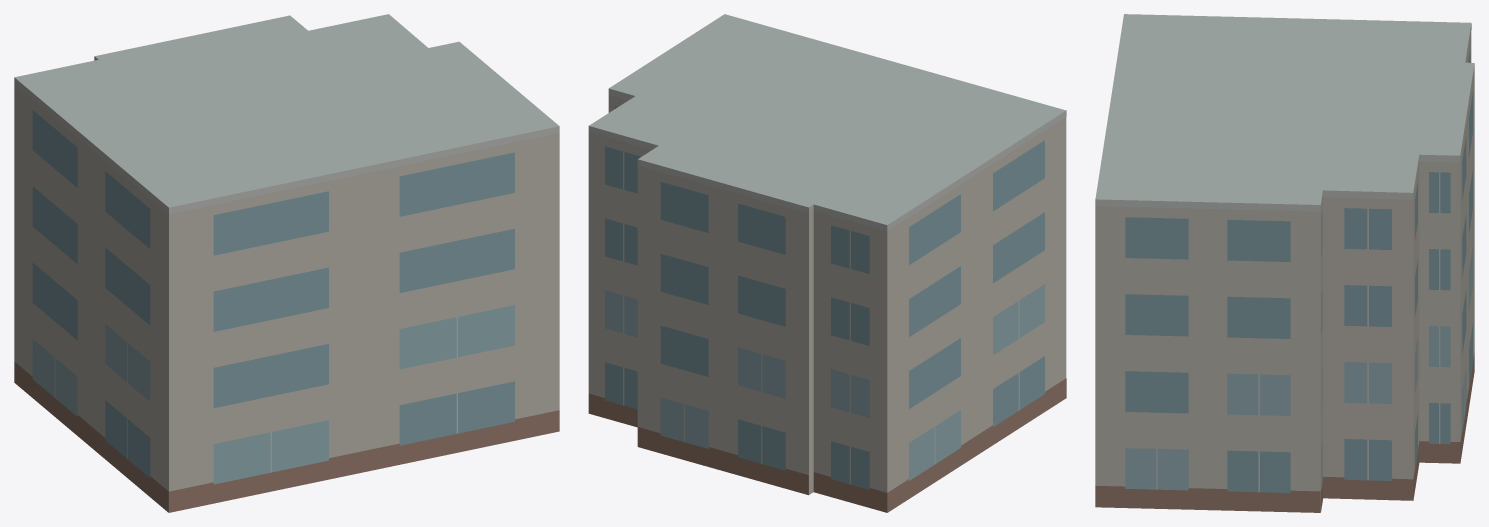
File: survey-upis-32687202.glb
The picture shows the model from 3 angles, left to right: view 1: azimuth 30°, elevation 25°; view 2: azimuth 150°, elevation 25°; view 3: azimuth 270°, elevation 25°; orthographic projection. The views are drawn at different scales.
Parts seen in each view (by area): view 1: survey-upis-32687202.tmp; view 2: survey-upis-32687202.tmp; view 3: survey-upis-32687202.tmp.
Part boxes in pixels (x1,y1,x2,y2): survey-upis-32687202.tmp: (14, 14, 559, 512); survey-upis-32687202.tmp: (588, 14, 1066, 512); survey-upis-32687202.tmp: (1095, 14, 1474, 512).
Size of the model in its own units: 14.91 by 11.2 by 12.52.
